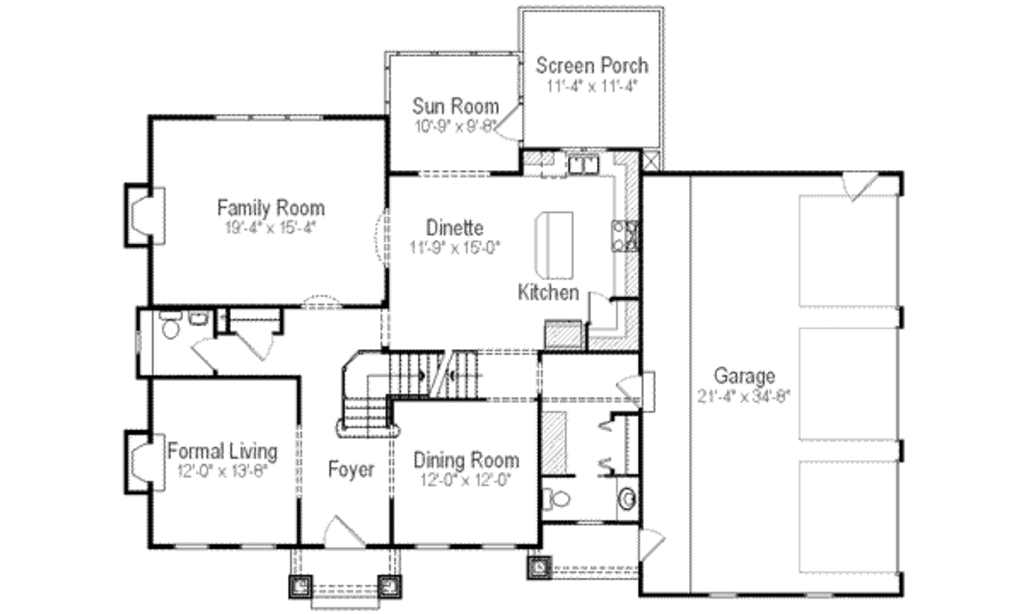door: (317, 511, 363, 547), (837, 170, 878, 202), (235, 331, 278, 359), (494, 104, 525, 142), (186, 336, 216, 373), (615, 372, 641, 411), (585, 287, 612, 323), (640, 528, 666, 563)
kitchen_bar: (532, 210, 577, 283)
large_sink: (156, 308, 186, 343), (542, 481, 574, 513)
small_sink: (616, 474, 645, 519)
stairs: (333, 349, 484, 440)
twin_sink: (566, 151, 600, 177)
windows: (211, 107, 324, 128), (168, 538, 210, 552), (406, 539, 451, 552), (237, 540, 278, 553), (474, 540, 516, 552)
